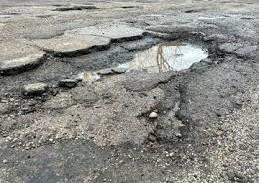pothole: (114, 29, 223, 77), (45, 3, 101, 13)
